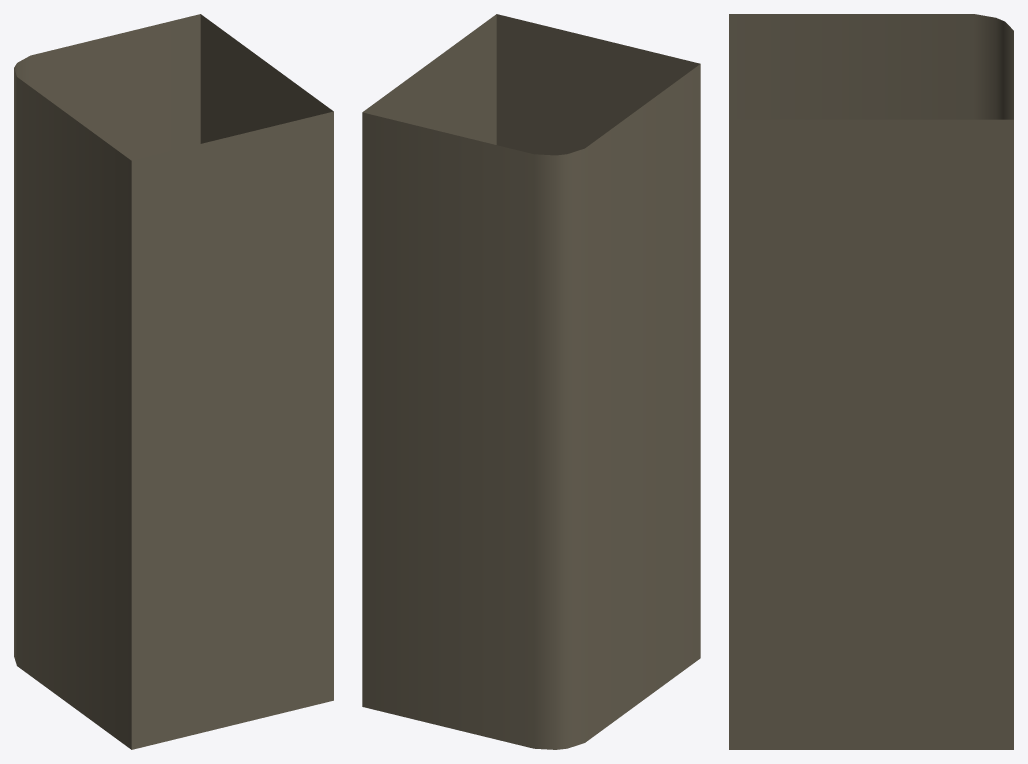
The model's file is SM_pillar_06.fbx.
The picture shows the model from 3 angles, left to right: view 1: azimuth 30°, elevation 25°; view 2: azimuth 150°, elevation 25°; view 3: azimuth 270°, elevation 25°; orthographic projection. The views are drawn at different scales.
Parts seen in each view (by area): view 1: pillar_06; view 2: pillar_06; view 3: pillar_06.
Boxes of the visible parts, box(x1,y1,x2,y2) form: pillar_06: box(14, 14, 333, 749); pillar_06: box(362, 14, 700, 749); pillar_06: box(729, 14, 1013, 749).
Size of the model in its own units: 65.63 by 183 by 74.87.
